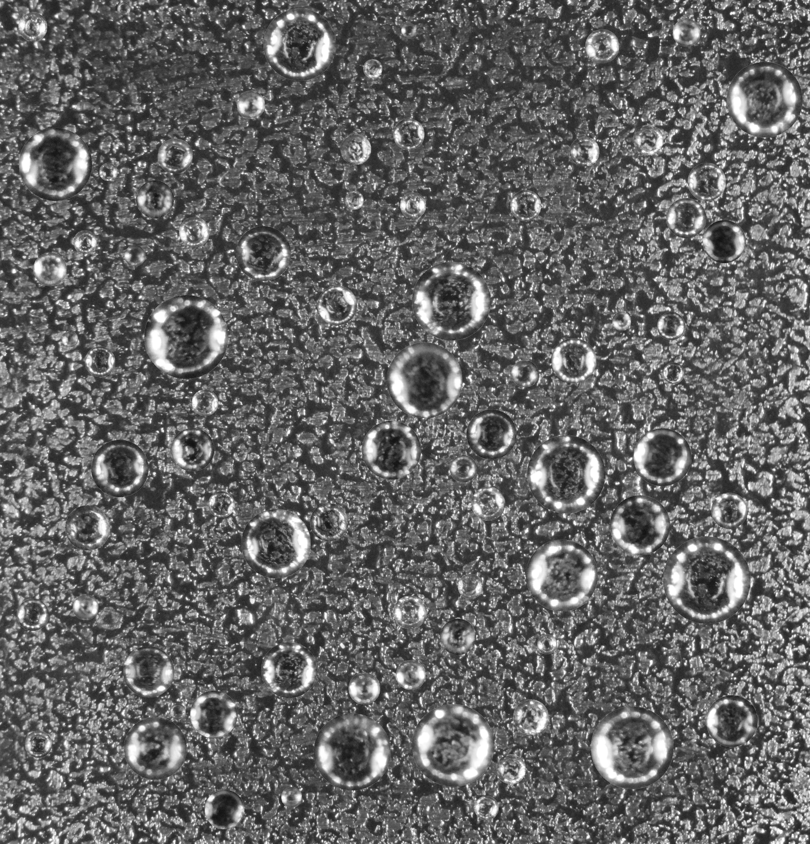Bubble: (663, 536, 750, 623), (144, 295, 228, 378), (591, 706, 673, 789), (412, 704, 494, 786), (412, 261, 490, 340), (527, 435, 605, 513), (313, 713, 390, 790), (386, 342, 462, 418), (727, 61, 802, 137), (18, 127, 91, 200), (263, 8, 335, 80), (526, 539, 597, 611), (241, 509, 310, 578), (123, 717, 186, 779), (610, 495, 670, 555), (362, 420, 420, 479), (633, 428, 691, 486), (91, 439, 148, 497), (261, 642, 317, 698), (236, 226, 290, 280), (123, 646, 174, 697), (706, 695, 757, 746), (466, 409, 516, 459), (190, 690, 237, 738), (65, 505, 110, 550), (551, 338, 596, 383), (170, 428, 214, 471), (702, 220, 745, 263), (666, 198, 706, 238), (204, 789, 244, 829), (317, 285, 356, 325), (310, 503, 348, 541), (687, 162, 725, 200), (136, 180, 173, 218), (711, 492, 747, 528), (440, 618, 476, 654), (157, 138, 192, 173), (513, 699, 548, 734), (471, 486, 505, 520), (585, 29, 619, 63), (393, 595, 426, 629), (33, 252, 66, 285), (16, 598, 48, 630), (348, 672, 380, 704), (393, 118, 424, 149), (340, 134, 371, 164), (510, 190, 541, 220), (633, 124, 663, 155), (84, 346, 115, 376), (179, 217, 209, 247), (569, 136, 599, 166), (496, 754, 525, 784), (396, 660, 425, 689), (18, 12, 47, 41), (672, 18, 700, 46), (657, 312, 685, 340), (236, 90, 264, 118), (449, 455, 477, 482), (24, 730, 51, 757), (511, 360, 538, 387), (191, 389, 218, 415), (400, 192, 426, 218), (72, 594, 98, 620), (208, 491, 234, 517), (458, 574, 482, 598), (474, 796, 498, 820), (73, 230, 96, 253), (124, 245, 145, 266), (663, 362, 684, 383), (537, 634, 557, 654), (281, 787, 301, 807), (612, 311, 631, 330), (363, 59, 382, 78), (345, 191, 363, 209), (99, 162, 117, 180), (61, 331, 77, 347), (169, 703, 185, 719), (401, 23, 417, 38), (117, 2, 130, 15), (596, 303, 607, 313)
